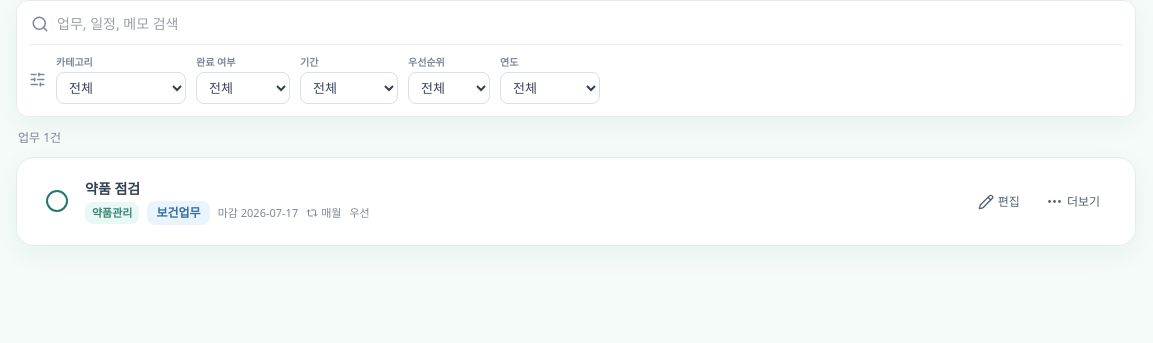
TaskWorkspace › searches task and event memo text as the user types
Type "CPR" into the search field named "업무, 일정과 메모 검색". click: (589, 24)
box: [57, 13, 1121, 34]
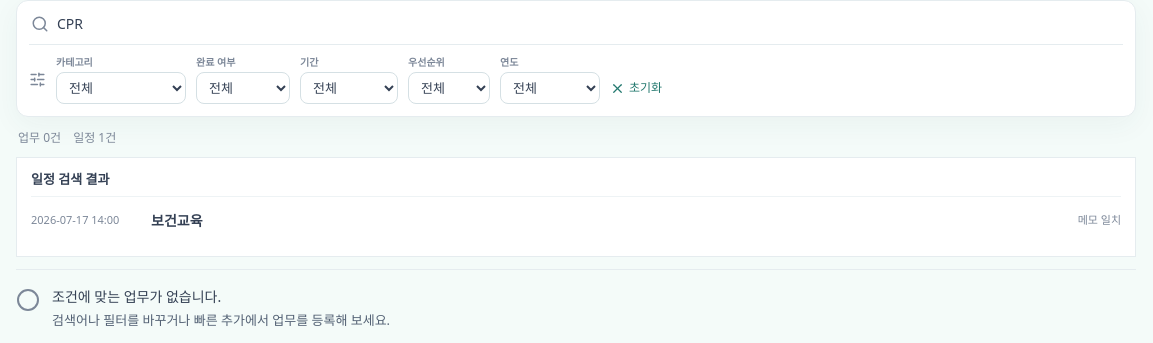
Expected: the heading "일정 검색 결과" is shown, [31, 170, 110, 188]
Expected: the text "보건교육" is shown, [151, 210, 202, 230]
Expected: the text "메모 일치" is shown, [1078, 212, 1121, 228]
Replace the text in the search field named "업무, 일정과 메모 검색" with "유효기간". click: (589, 24)
box: [57, 13, 1121, 34]
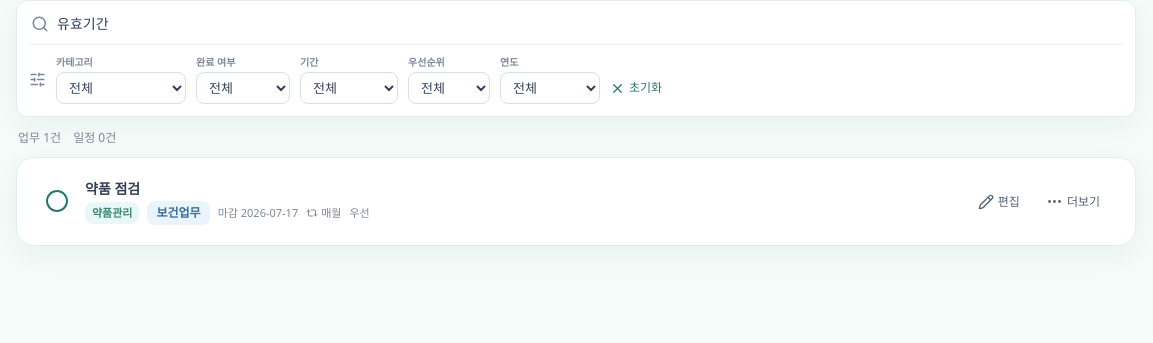
Expected: the text "약품 점검" is shown, [85, 179, 140, 198]
Expected: the text "업무 1건" is shown, [18, 129, 61, 147]
